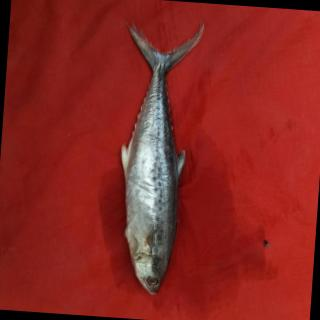Ikan: (100, 12, 215, 305)
